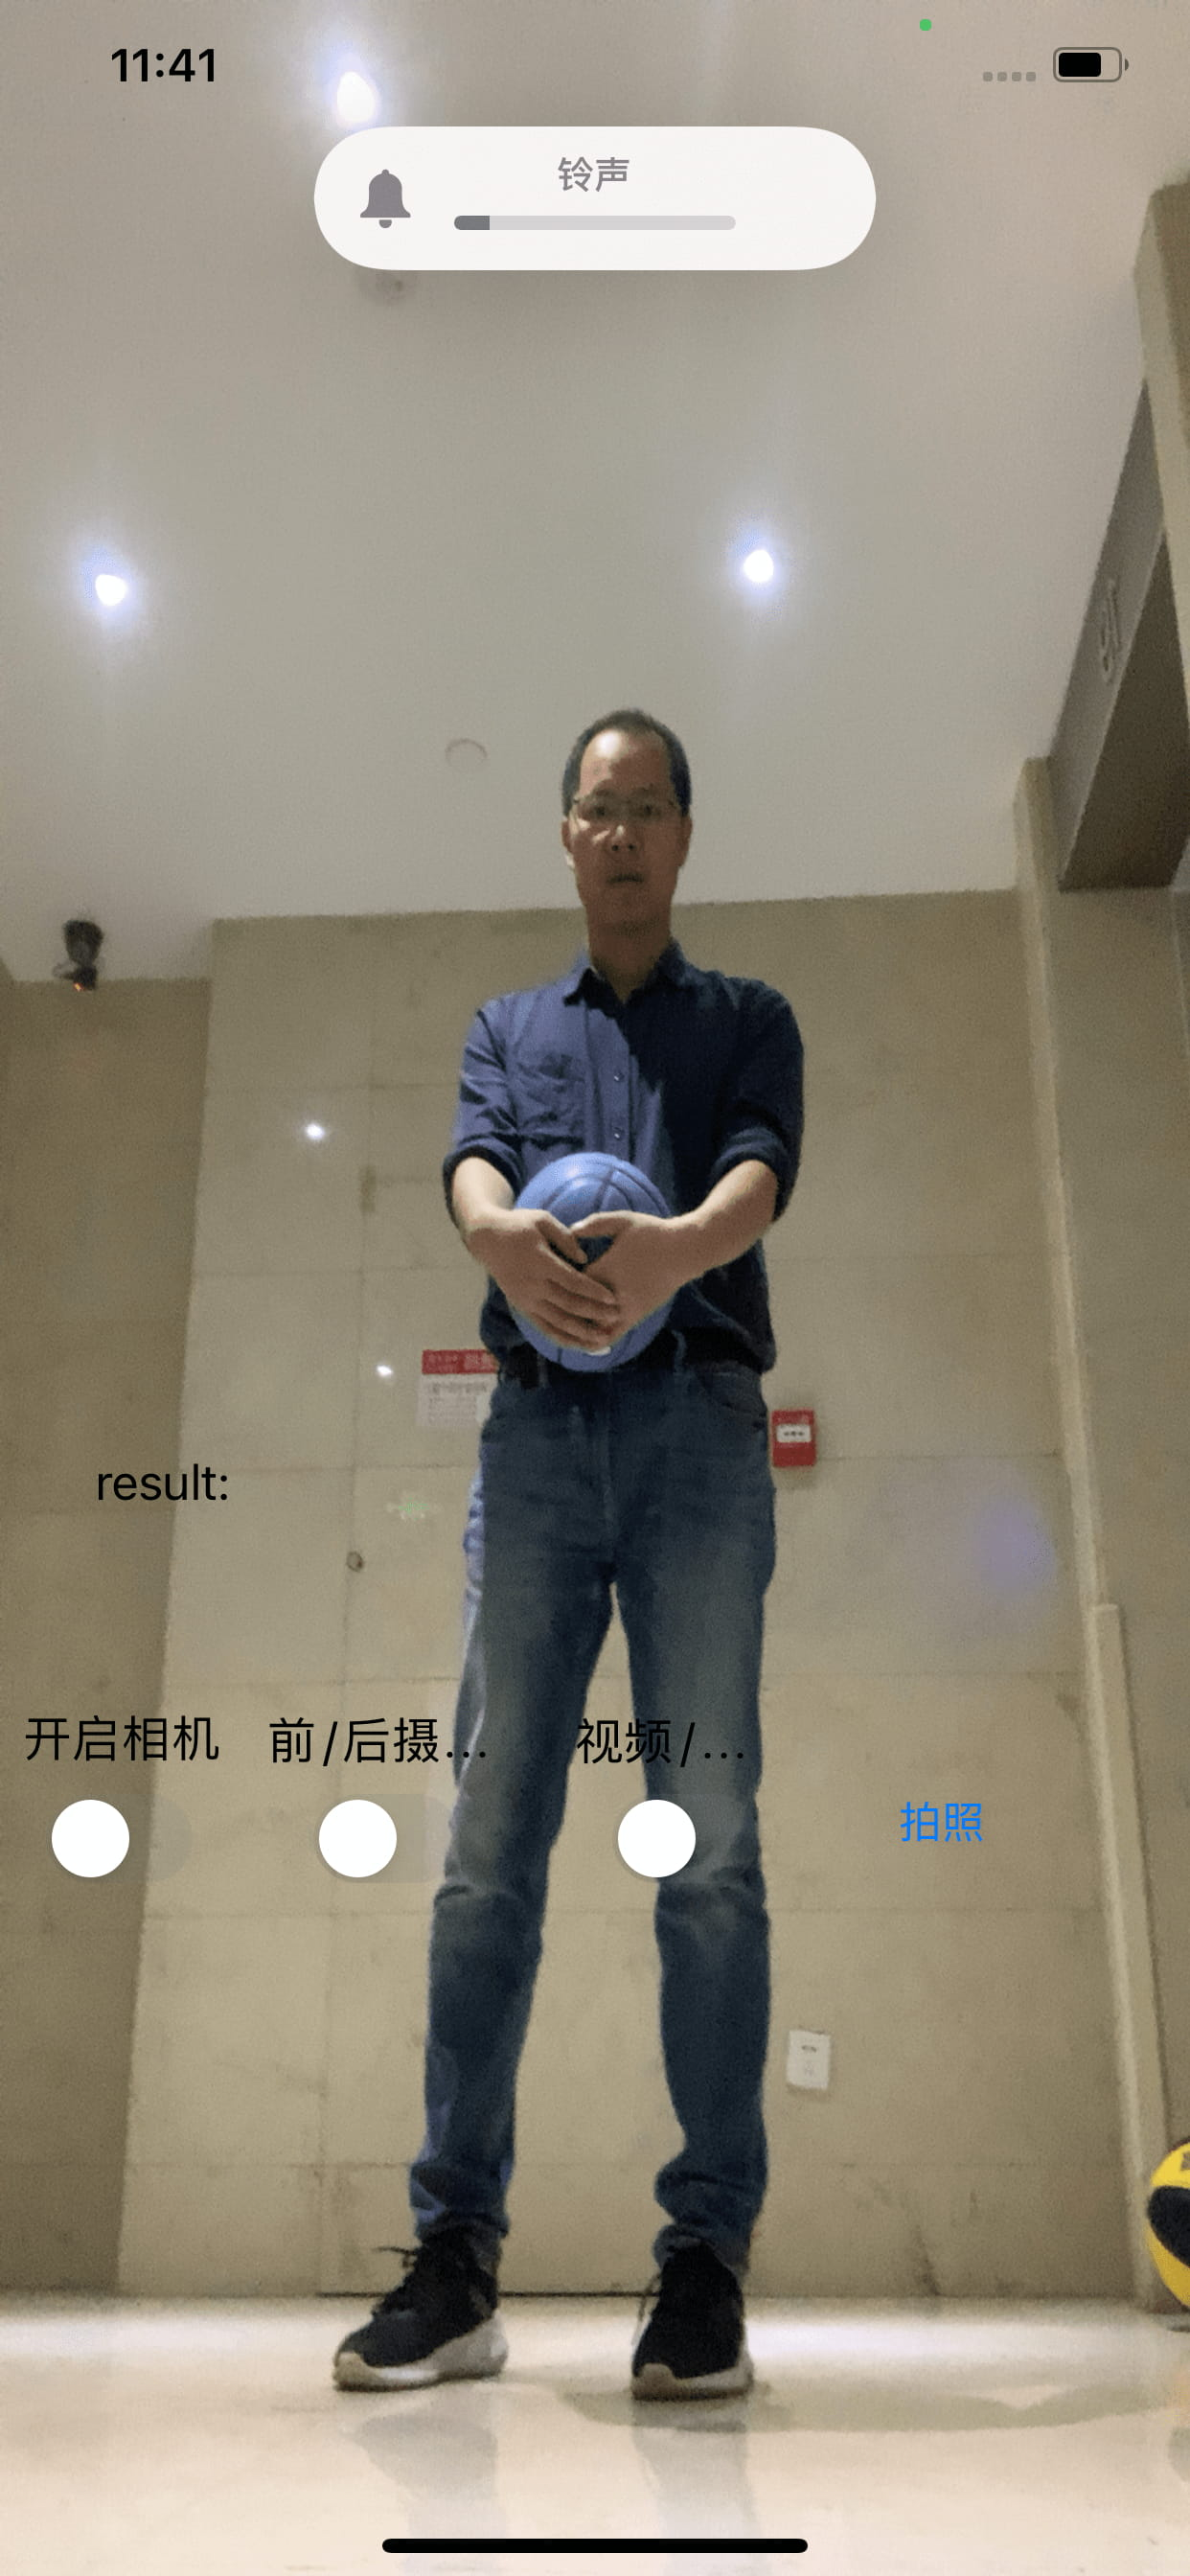ball: (490, 1153, 679, 1375)
